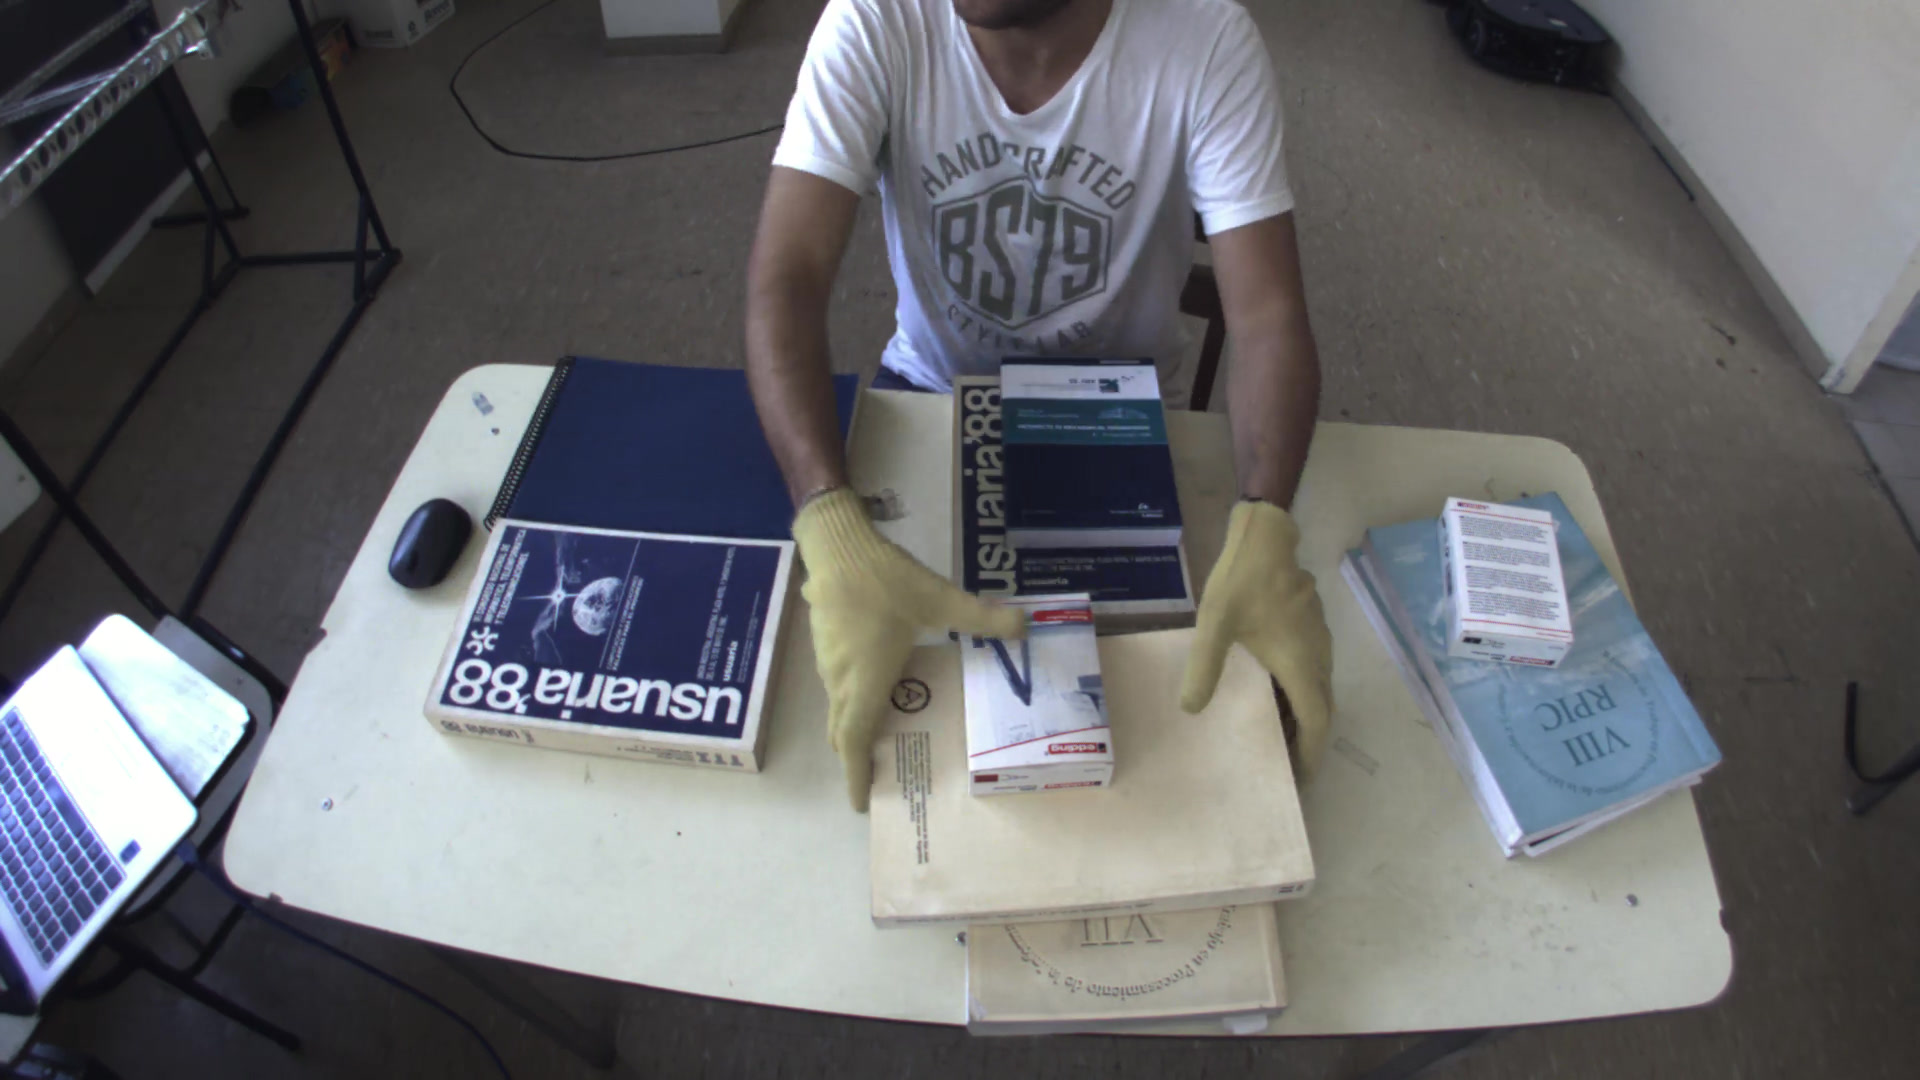hand: (783, 469, 1031, 814), (1171, 493, 1352, 767)
